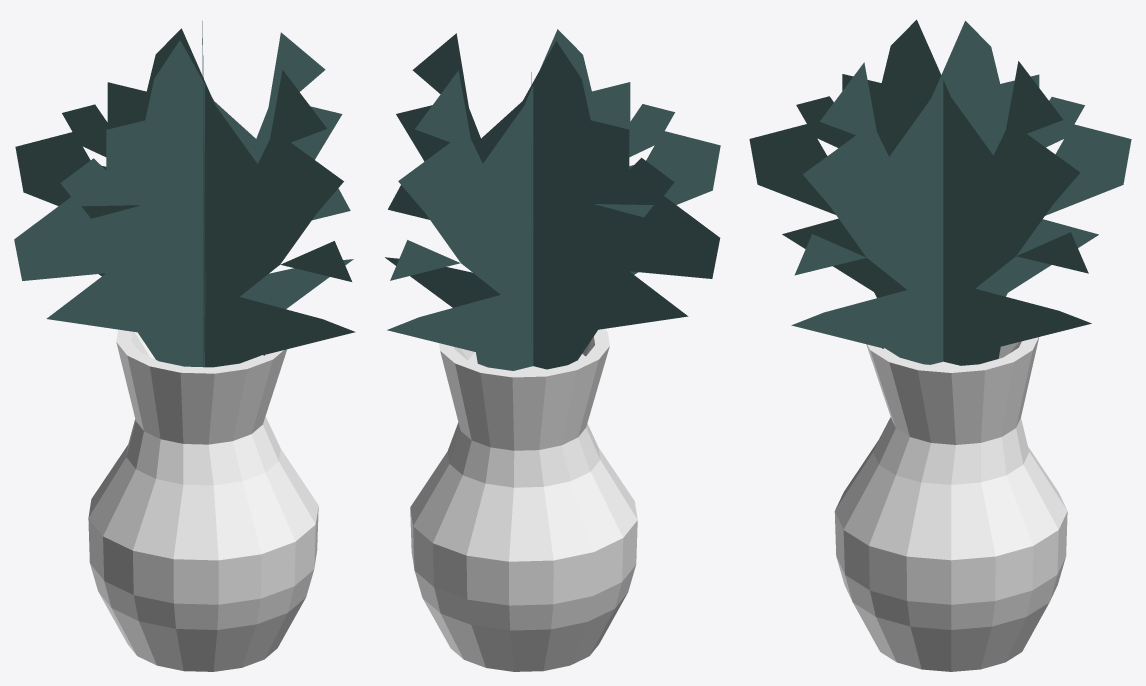
Rendered from цветы в вазе.fbx.
3 views of the same model, side by side, from view 1: azimuth 30°, elevation 25°; view 2: azimuth 150°, elevation 25°; view 3: azimuth 270°, elevation 25° (orthographic).
Parts seen in each view (by area): view 1: Plane.004; view 2: Plane.004; view 3: Plane.004.
Part boxes in pixels (x1=…): Plane.004: x1=14, y1=21, x2=355, y2=671; Plane.004: x1=385, y1=29, x2=720, y2=671; Plane.004: x1=749, y1=19, x2=1131, y2=671.
Size of the model in its own units: 217 by 372 by 211.
